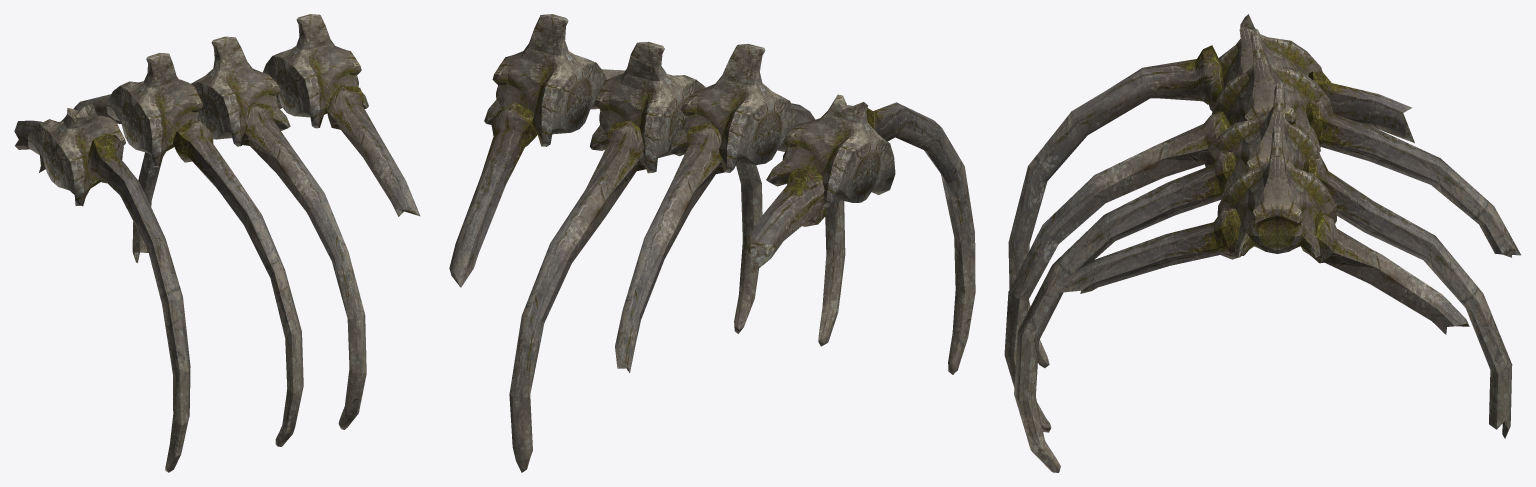
The model's file is bg_anh_gvalley_dstair01_05_sm_old.FBX.
3 renders of one model, left to right at view 1: azimuth 30°, elevation 25°; view 2: azimuth 150°, elevation 25°; view 3: azimuth 270°, elevation 25°, orthographic. The views are drawn at different scales.
Parts seen in each view (by area): view 1: bg_anh_gvalley_dstair01_05_sm_old; view 2: bg_anh_gvalley_dstair01_05_sm_old; view 3: bg_anh_gvalley_dstair01_05_sm_old.
Boxes of the visible parts, x1,y1,x2,y2 form: bg_anh_gvalley_dstair01_05_sm_old: (14,14,420,472); bg_anh_gvalley_dstair01_05_sm_old: (449,14,975,472); bg_anh_gvalley_dstair01_05_sm_old: (1004,14,1520,472).
Bounding box in the file's own units: 386 × 401 × 488.
